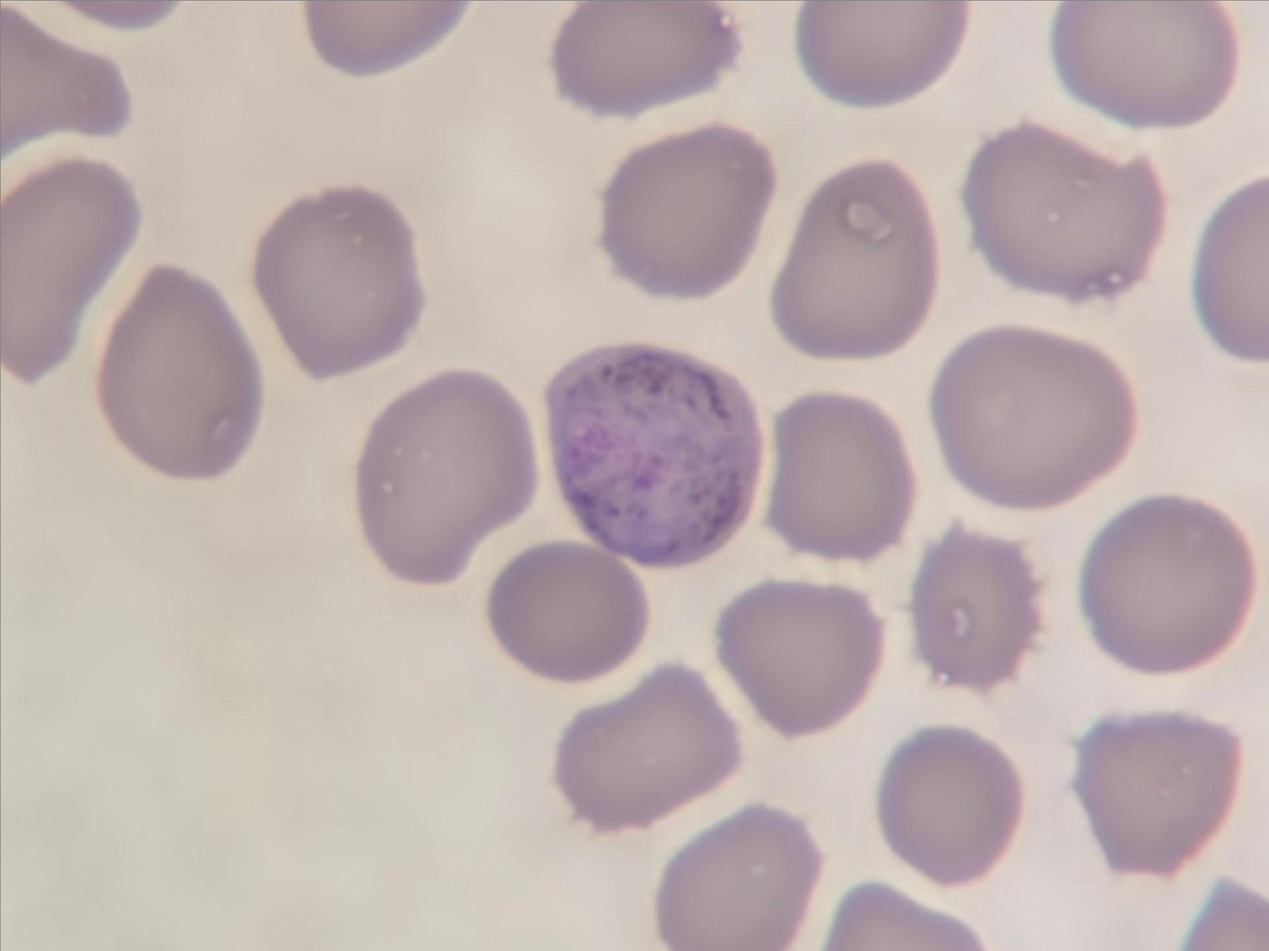Infected: (546, 343, 762, 569)
Uninfected: (355, 375, 543, 584), (967, 120, 1166, 302), (936, 325, 1135, 503), (776, 155, 940, 367), (93, 274, 261, 477), (251, 186, 416, 384), (553, 659, 748, 822), (1086, 490, 1266, 665), (0, 155, 138, 378), (599, 124, 773, 298), (1075, 710, 1238, 875), (714, 576, 878, 736), (776, 395, 915, 568), (663, 800, 821, 951), (875, 728, 1019, 887), (912, 525, 1043, 694), (489, 538, 646, 674)
